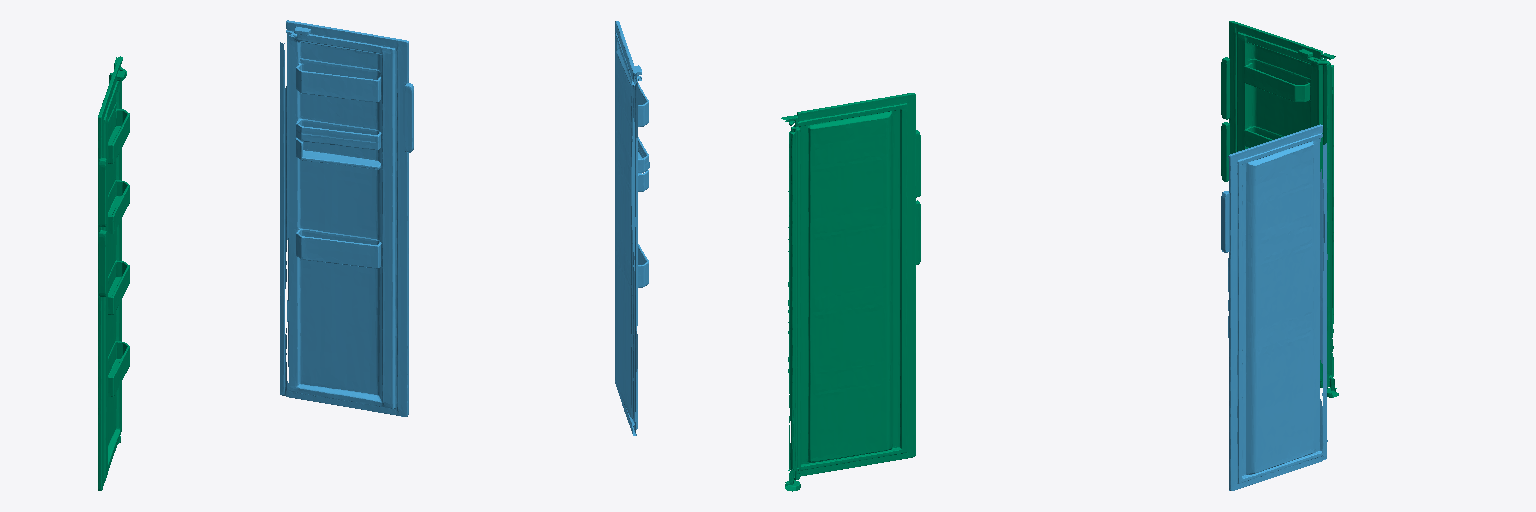
URDF robot description (fridge_00):
<?xml version='1.0' encoding='utf-8'?>
<robot name="fridge_00">
  <link name="l_0">
    <visual>
      <origin xyz="0 0 0" rpy="0 0 0" />
      <geometry>
        <mesh filename="./fridge_00_objs/0/0.obj" />
      </geometry>
    </visual>
    <collision>
      <origin xyz="0 0 0" rpy="0 0 0" />
      <geometry>
        <mesh filename="./fridge_00_objs/0/0.obj" />
      </geometry>
    </collision>
  </link>
  <link name="l_1">
    <visual>
      <origin xyz="-0.22249999999999998 0.07250000000000001 0.0025000000000000044" rpy="0 0 0" />
      <geometry>
        <mesh filename="./fridge_00_objs/1/1.obj" />
      </geometry>
    </visual>
    <collision>
      <origin xyz="-0.22249999999999998 0.07250000000000001 0.0025000000000000044" rpy="0 0 0" />
      <geometry>
        <mesh filename="./fridge_00_objs/1/1.obj" />
      </geometry>
    </collision>
  </link>
  <link name="l_2">
    <visual>
      <origin xyz="0.2375 0.07250000000000001 0.0025000000000000044" rpy="0 0 0" />
      <geometry>
        <mesh filename="./fridge_00_objs/2/2.obj" />
      </geometry>
    </visual>
    <collision>
      <origin xyz="0.2375 0.07250000000000001 0.0025000000000000044" rpy="0 0 0" />
      <geometry>
        <mesh filename="./fridge_00_objs/2/2.obj" />
      </geometry>
    </collision>
  </link>
  <joint name="j_1" type="revolute">
    <parent link="l_0" />
    <child link="l_1" />
    <origin xyz="0.22249999999999998 -0.07250000000000001 -0.0025000000000000044" rpy="0 0 0" />
    <axis xyz="0.0 0.0 1.0" />
    <limit lower="-2.1363" upper="0.7540" effort="10" velocity="10" />
  </joint>
  <joint name="j_2" type="revolute">
    <parent link="l_0" />
    <child link="l_2" />
    <origin xyz="-0.2375 -0.07250000000000001 -0.0025000000000000044" rpy="0 0 0" />
    <axis xyz="0.0 0.0 1.0" />
    <limit lower="-0.8168" upper="2.0735" effort="10" velocity="10" />
  </joint>
</robot>

--- Render facts (derived) ---
Views: 3 orthographic renders of the robot side by side, from view 1: azimuth 30°, elevation 25°; view 2: azimuth 150°, elevation 25°; view 3: azimuth 270°, elevation 25°.
Model fridge_00 with 3 links and 2 joints (2 revolute), rooted at l_0, posed every joint at zero.
Links seen in each view (by area): view 1: l_1, l_2; view 2: l_2, l_1; view 3: l_1, l_2.
Boxes of the visible links, left/top/right/bottom form: l_1: left=280, top=20, right=413, bottom=416; l_2: left=98, top=56, right=129, bottom=490; l_2: left=781, top=93, right=920, bottom=491; l_1: left=615, top=21, right=649, bottom=435; l_1: left=1221, top=124, right=1327, bottom=490; l_2: left=1221, top=21, right=1338, bottom=397.
Bounding box of the posed robot: 0.8588 × 0.3099 × 0.9997 m (x, y, z).
2 mesh visuals loaded from 3 distinct referenced files (2 OBJ); not drawn: 1 (reference not matched to a file when rendering).
